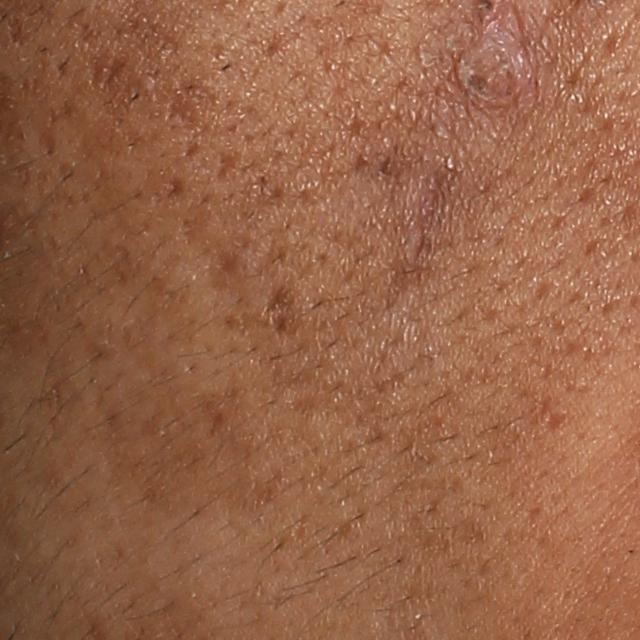atrophic_scar: (401, 171, 452, 272), (164, 77, 218, 129), (204, 241, 252, 294), (86, 52, 130, 89), (531, 273, 561, 303), (543, 407, 569, 432), (166, 176, 186, 204), (179, 141, 198, 160)
